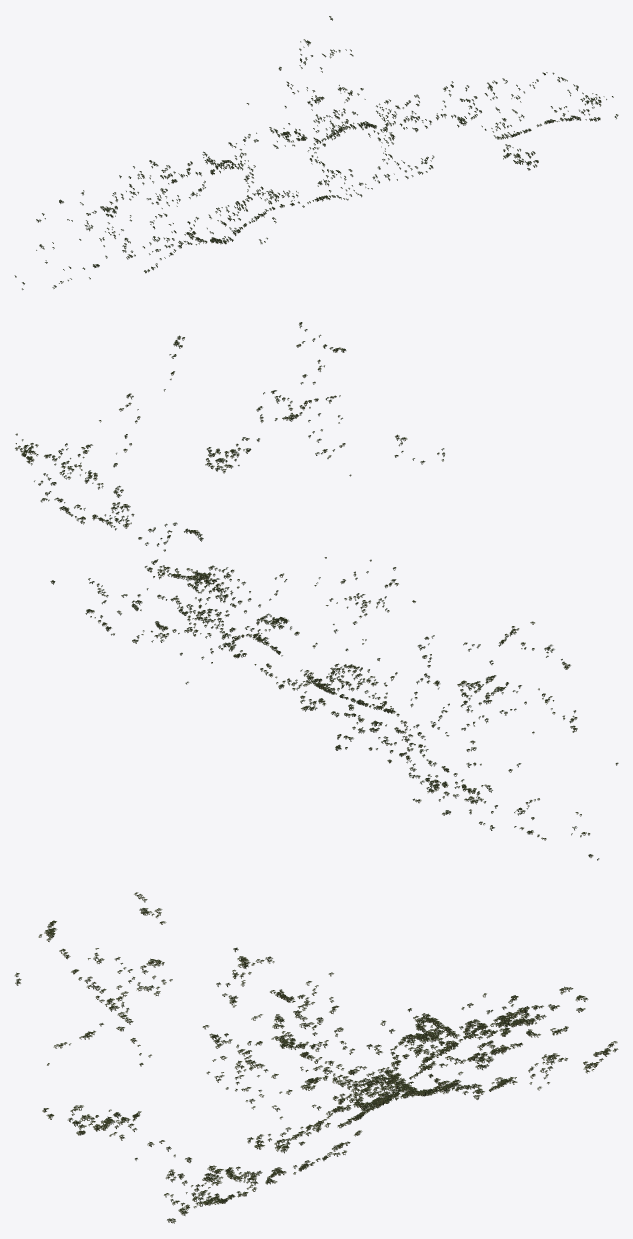
Rendered from PineStands.fbx.
3 renders of one model, top to bottom at view 1: azimuth 30°, elevation 25°; view 2: azimuth 150°, elevation 25°; view 3: azimuth 270°, elevation 25°, orthographic. The views are drawn at different scales.
Parts seen in each view (by area): view 1: PineStands; view 2: PineStands; view 3: PineStands.
Part boxes in pixels (x1,y1,x2,y2): PineStands: (14, 16, 618, 289); PineStands: (15, 322, 618, 860); PineStands: (14, 892, 618, 1223).
Size of the model in its own units: 124420 by 50954 by 78397.
Materials: 1 (1 with a texture image).
